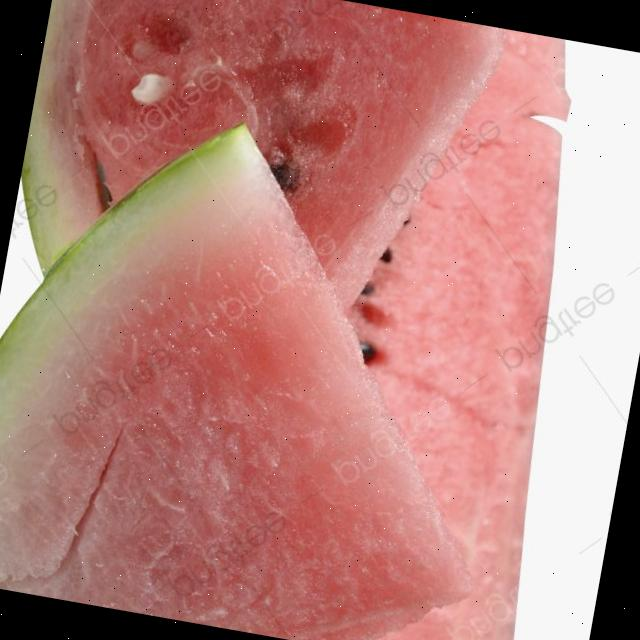watermelon: (0, 85, 550, 640), (196, 0, 625, 640), (4, 0, 511, 348)
